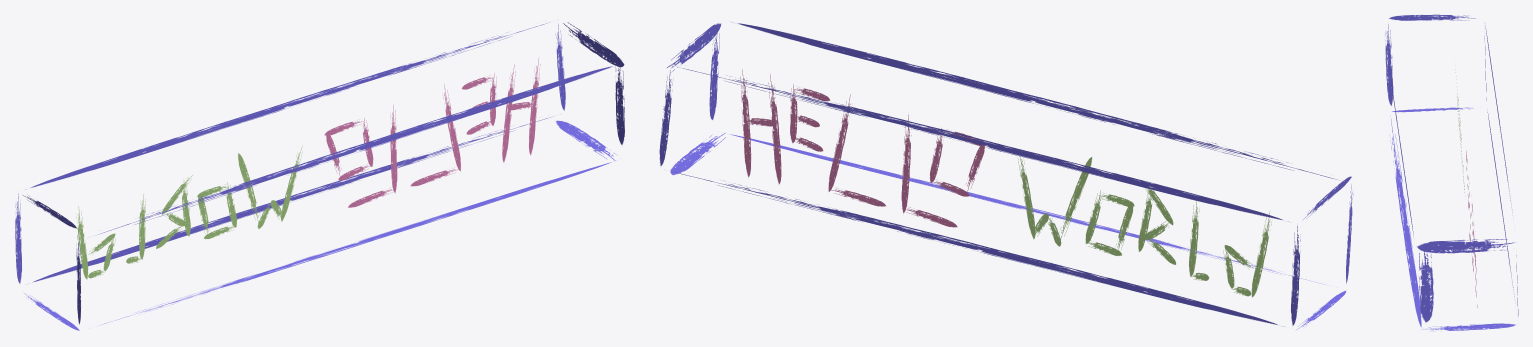
File: hello_world.glb
The picture shows the model from 3 angles, left to right: view 1: azimuth 30°, elevation 25°; view 2: azimuth 150°, elevation 25°; view 3: azimuth 270°, elevation 25°; orthographic projection. The views are drawn at different scales.
Visible parts, largest first — view 1: brush_Light_g0_b0_0; view 2: brush_Light_g0_b0_0; view 3: brush_Light_g0_b0_0.
Boxes of the visible parts, x1,y1,x2,y2 form: brush_Light_g0_b0_0: [15, 22, 624, 330]; brush_Light_g0_b0_0: [659, 22, 1353, 329]; brush_Light_g0_b0_0: [1385, 14, 1518, 331].
Bounding box in the file's own units: 1.37 × 0.2958 × 0.3184.
Materials: 1 (1 with a texture image).
